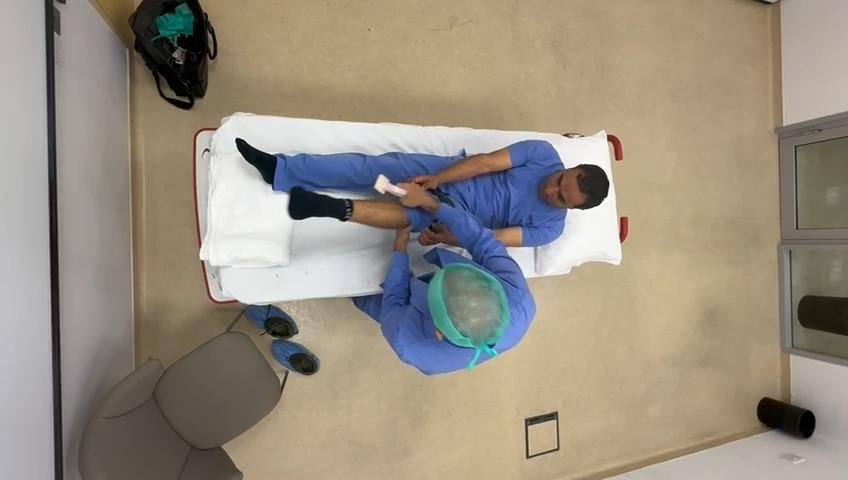bed: (192, 116, 626, 302)
patient: (235, 139, 610, 247)
prepstick: (375, 174, 407, 196)
